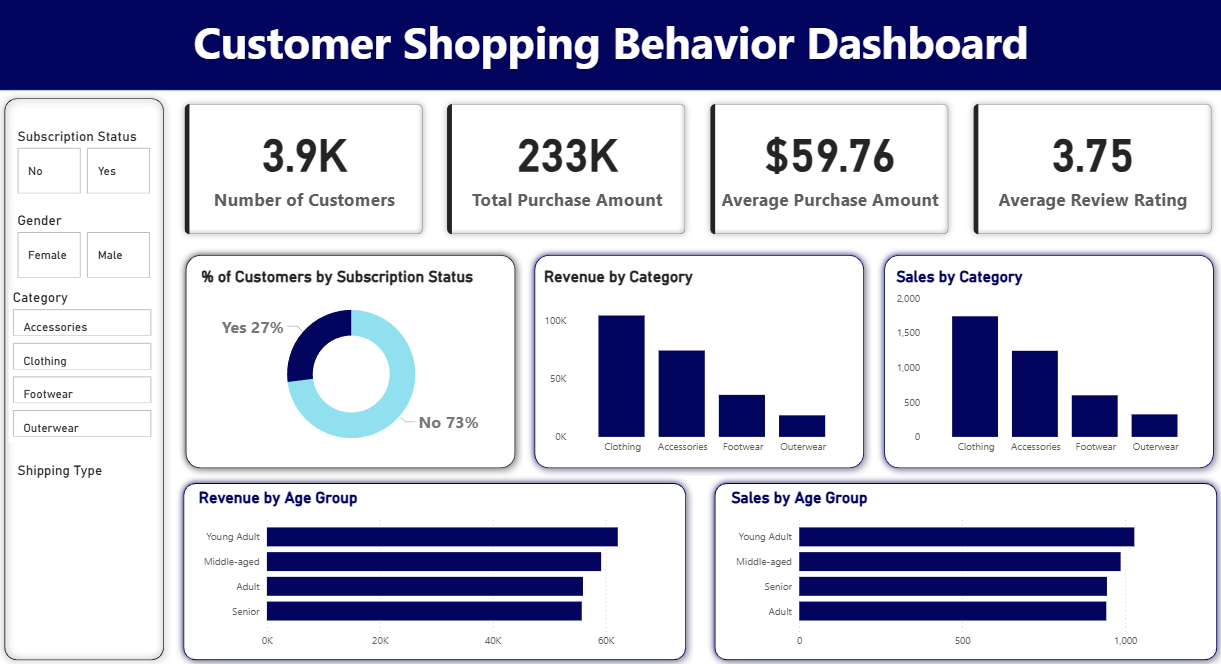

Layout of this report page (visuals, bound fields, positions):
{"tool":"powerbi","page":{"name":"Page 1","canvas":[1500,820],"ordinal":0},"visuals":[{"type":"cardVisual","fields":{"Data":["public customer.Number of Customers","Sum(public customer.purchase_amount)","public customer.Average Purchase Amount","public customer.Average Review Rating"]},"box":[212.9,115.3,1286.5,191.6],"z":2000},{"type":"shape","box":[218.3,585.6,631.7,234.2],"z":2500,"group":"g1"},{"type":"shape","box":[0,0,1499.4,115.3],"z":3000},{"type":"textbox","box":[0,13.7,1499.6,103.1],"z":4000},{"type":"shape","box":[221,307.2,420.5,278.6],"z":5000},{"type":"donutChart","title":"% of Customers by Subscription Status","fields":{"Category":["public customer.subscription_status"],"Y":["CountNonNull(public customer.customer_id)"]},"box":[244.1,332,376.2,237.8],"z":6000},{"type":"shape","box":[1074.5,307.2,420.5,278.6],"z":7000},{"type":"shape","box":[647.8,307.2,420.5,278.6],"z":8000},{"type":"clusteredColumnChart","title":"Revenue by Category","fields":{"Y":["Sum(public customer.purchase_amount)"],"Category":["public customer.category"]},"box":[662.8,332,385.1,237.8],"z":9000},{"type":"clusteredColumnChart","title":"Sales by Category","fields":{"Y":["CountNonNull(public customer.customer_id)"],"Category":["public customer.category"]},"box":[1092.3,332,385.1,237.8],"z":10000},{"type":"shape","box":[0,115.7,212.9,704.3],"z":11000},{"type":"advancedSlicerVisual","fields":{"Values":["public customer.subscription_status"]},"box":[19.5,161.5,173.9,85.2],"z":12000},{"type":"advancedSlicerVisual","fields":{"Values":["public customer.gender"]},"box":[19.5,264.4,173.9,85.2],"z":13000},{"type":"advancedSlicerVisual","fields":{"Values":["public customer.category"]},"box":[14.2,358.4,179.2,186.3],"z":14000},{"type":"listSlicer","fields":{"Values":["public customer.shipping_type"]},"box":[19.5,569.6,168.6,220],"z":15000},{"type":"shape","box":[867.7,585.6,631.7,234.2],"z":16000},{"type":"clusteredBarChart","title":"Sales by Age Group","fields":{"Y":["CountNonNull(public customer.customer_id)"],"Category":["public customer.age_group"]},"box":[890.8,601.5,585.6,204.1],"z":17000},{"type":"clusteredBarChart","title":"Revenue by Age Group","fields":{"Y":["Sum(public customer.purchase_amount)"],"Category":["public customer.age_group"]},"box":[241.4,601.6,585.6,204.1],"z":17500,"group":"g1"},{"type":"group","id":"g1","title":"Group 1","box":[218.3,585.6,631.7,234.2],"z":17501}]}

Visuals, with their boxes in screenshot pixels (x1, y1, x2, y2), scaled from the page's 1500x820 canvas onto the 1221x664 screenshot:
cardVisual - public customer.Number of Customers x Sum(public customer.purchase_amount): (173,93,1220,249)
shape: (178,474,692,663)
shape: (0,0,1220,93)
textbox: (0,11,1220,95)
shape: (180,249,522,474)
"% of Customers by Subscription Status" donutChart: (199,269,505,461)
shape: (875,249,1217,474)
shape: (527,249,870,474)
"Revenue by Category" clusteredColumnChart: (540,269,853,461)
"Sales by Category" clusteredColumnChart: (889,269,1203,461)
shape: (0,94,173,663)
advancedSlicerVisual - public customer.subscription_status: (16,131,157,200)
advancedSlicerVisual - public customer.gender: (16,214,157,283)
advancedSlicerVisual - public customer.category: (12,290,157,441)
listSlicer - public customer.shipping_type: (16,461,153,639)
shape: (706,474,1220,663)
"Sales by Age Group" clusteredBarChart: (725,487,1202,652)
"Revenue by Age Group" clusteredBarChart: (196,487,673,652)
"Group 1" group: (178,474,692,663)
